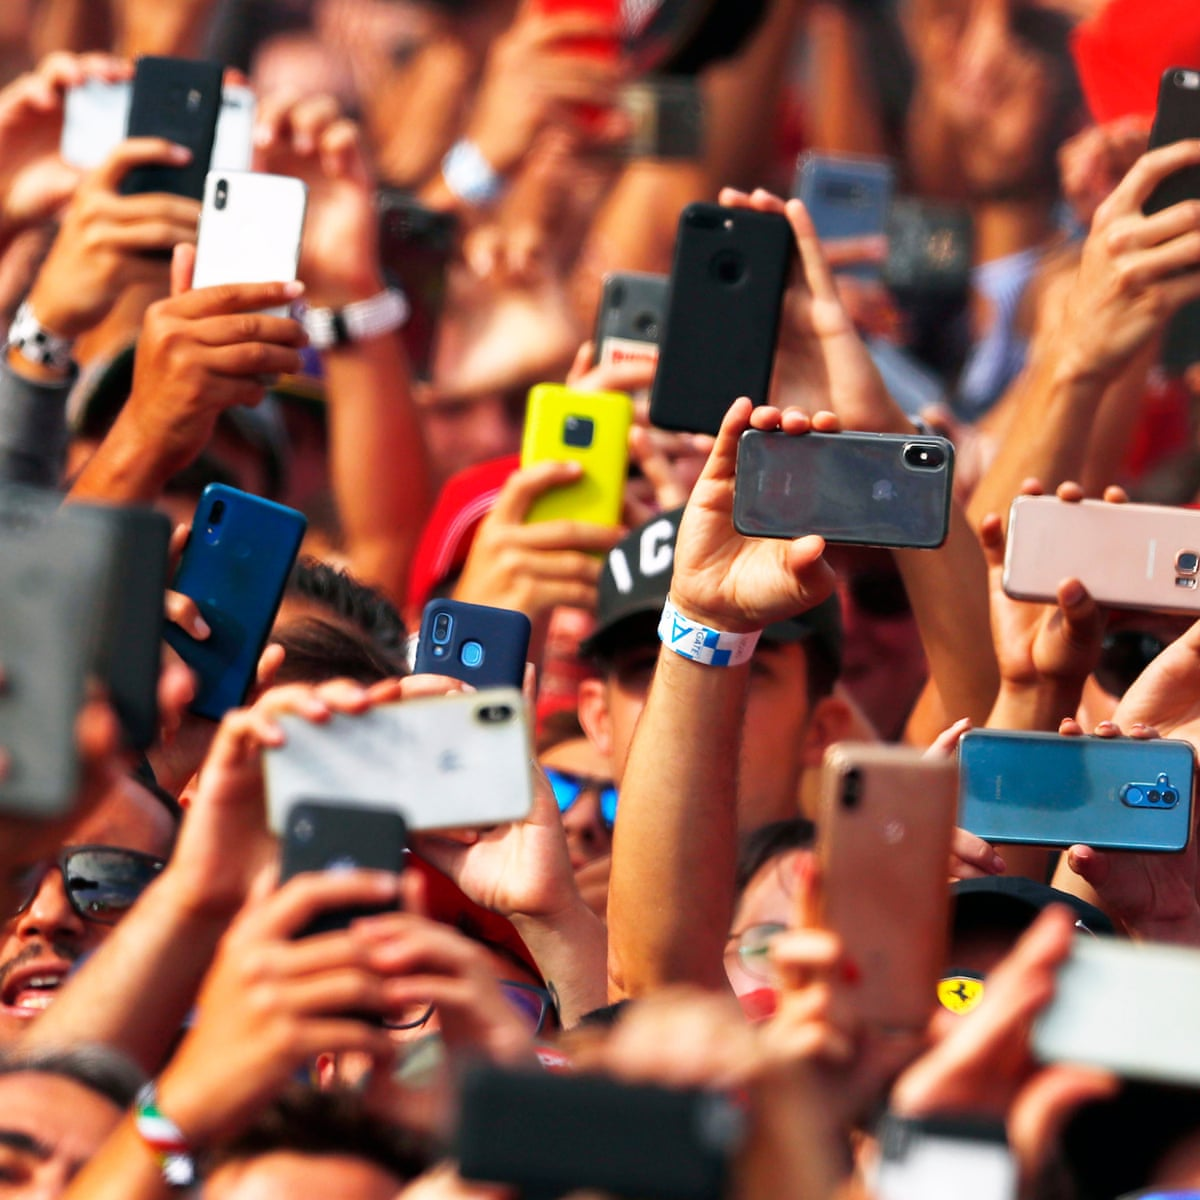phones: (729, 405, 969, 566), (960, 724, 1198, 868), (178, 462, 309, 688), (1000, 481, 1200, 621), (662, 193, 789, 410), (189, 168, 311, 319)
